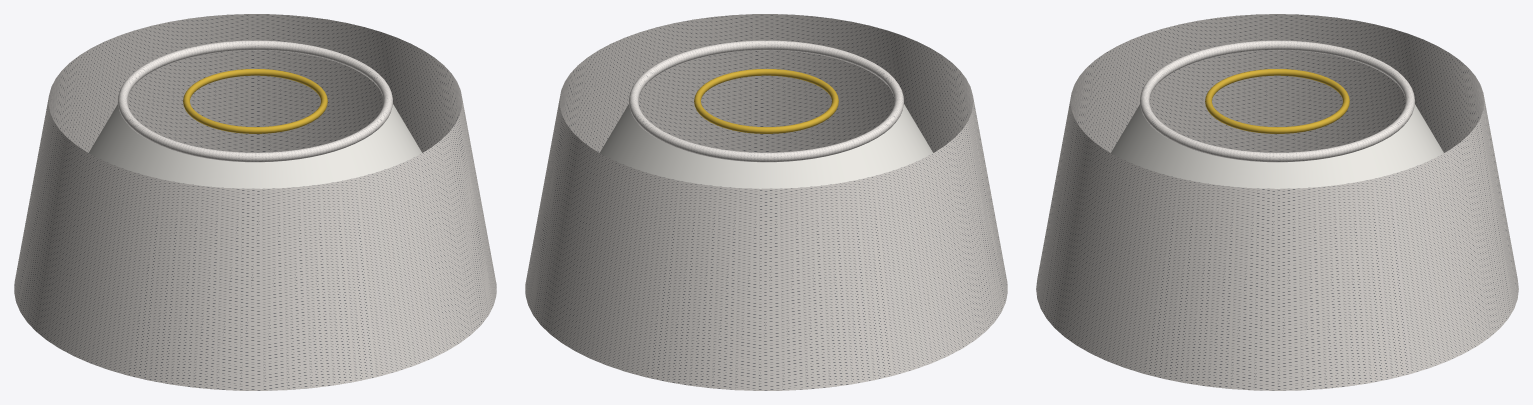
Rendered from gen-1793017956539-rkubqk.glb.
3 views of the same model, side by side, from view 1: azimuth 30°, elevation 25°; view 2: azimuth 150°, elevation 25°; view 3: azimuth 270°, elevation 25° (orthographic).
Parts seen in each view (by area): view 1: lampshade_body, inner_liner, top_rim, top_ring; view 2: lampshade_body, inner_liner, top_rim, top_ring; view 3: lampshade_body, inner_liner, top_rim, top_ring.
Boxes of the visible parts, box(x1,y1,x2,y2) form: lampshade_body: box(14, 14, 496, 390); inner_liner: box(89, 104, 421, 188); top_rim: box(118, 40, 392, 162); top_ring: box(183, 69, 327, 133); lampshade_body: box(525, 14, 1007, 390); inner_liner: box(600, 104, 932, 188); top_rim: box(629, 40, 903, 162); top_ring: box(694, 69, 838, 133); lampshade_body: box(1036, 14, 1518, 390); inner_liner: box(1111, 104, 1443, 188); top_rim: box(1140, 40, 1414, 162); top_ring: box(1205, 69, 1349, 133).
Bounding box in the file's own units: 0.35 × 0.156 × 0.35.
Materials: 4 (1 with a texture image).
